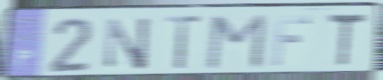2: (48, 15, 97, 75)
F: (269, 15, 314, 68)
M: (203, 12, 269, 71)
N: (103, 15, 153, 72)
T: (325, 11, 369, 69), (162, 14, 205, 72)
